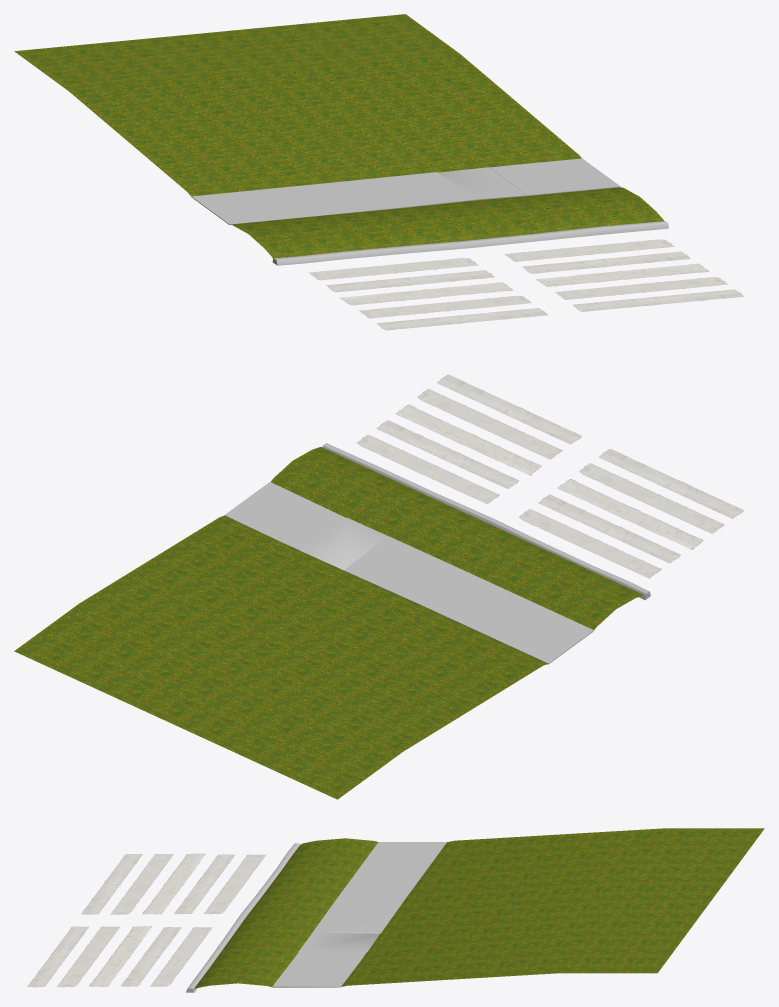
Rendered from Road_8x_25.fbx.
3 renders of one model, top to bottom at view 1: azimuth 30°, elevation 25°; view 2: azimuth 150°, elevation 25°; view 3: azimuth 270°, elevation 25°, orthographic. The views are drawn at different scales.
Parts seen in each view (by area): view 1: Road_8x_25; view 2: Road_8x_25; view 3: Road_8x_25.
Part boxes in pixels (x1,y1,x2,y2): Road_8x_25: (14, 14, 744, 330); Road_8x_25: (14, 374, 743, 799); Road_8x_25: (27, 828, 764, 992).
Size of the model in its own units: 801 by 50.07 by 1750.
